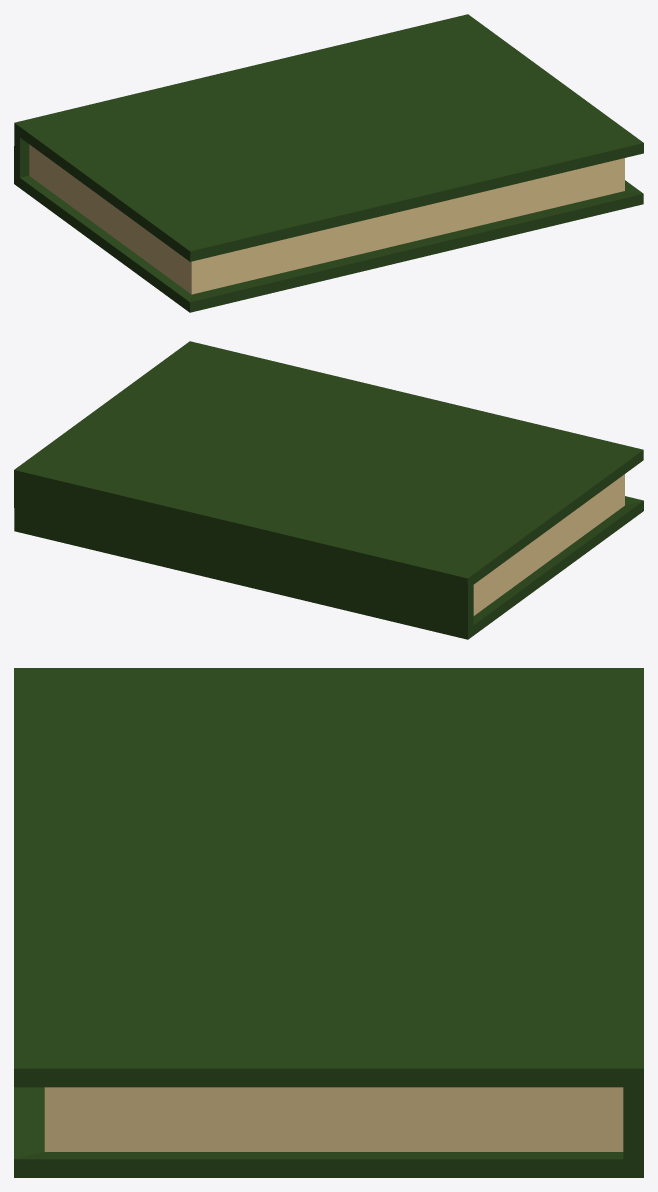
Rendered from Book1_033.fbx.
3 views of the same model, one above another, from view 1: azimuth 30°, elevation 25°; view 2: azimuth 150°, elevation 25°; view 3: azimuth 270°, elevation 25° (orthographic). The views are drawn at different scales.
Parts seen in each view (by area): view 1: Book1.033; view 2: Book1.033; view 3: Book1.033.
Boxes of the visible parts, bbox=[...] form: Book1.033: bbox=[14, 14, 643, 312]; Book1.033: bbox=[14, 341, 643, 639]; Book1.033: bbox=[14, 668, 643, 1177].
Bounding box in the file's own units: 56.76 × 7.58 × 38.09.
